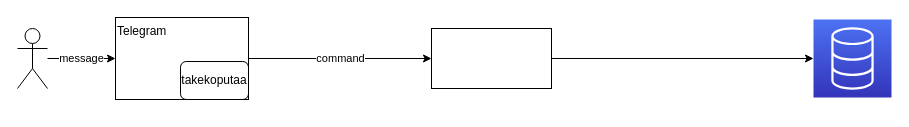
This 909x127 diagram has some shape labels left out. Here are the shapes that lost their labels. From the top down, the centre of each, then its label:
At point 32,58: "User".
At point 491,58: "dokodemo-door".
